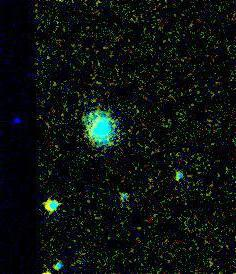star: (32, 258, 62, 274)
